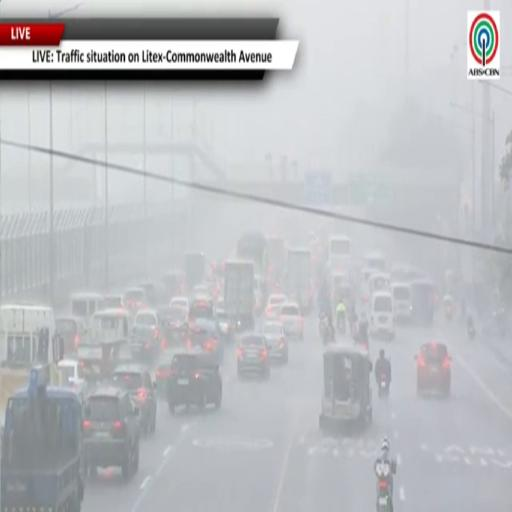car: (83, 387, 139, 479), (166, 349, 222, 413), (111, 364, 157, 434), (156, 325, 190, 397), (415, 342, 451, 395), (189, 319, 223, 363), (237, 333, 270, 378), (369, 291, 395, 339), (58, 359, 87, 402), (56, 316, 86, 355), (130, 326, 161, 363), (263, 322, 288, 362), (161, 323, 189, 357), (280, 302, 303, 340), (391, 283, 412, 322), (189, 296, 214, 322), (123, 287, 147, 314), (216, 308, 235, 342), (265, 294, 287, 318), (158, 306, 187, 324), (170, 296, 189, 313), (104, 294, 124, 309), (192, 284, 211, 298)
motorcycle: (375, 459, 396, 511), (320, 319, 333, 345), (378, 373, 389, 397), (336, 312, 346, 335), (467, 318, 476, 340), (445, 304, 453, 322)
truck: (0, 365, 84, 511), (0, 304, 64, 409), (224, 261, 254, 330), (286, 249, 314, 313), (236, 231, 268, 280), (267, 237, 285, 289), (185, 251, 205, 292)
